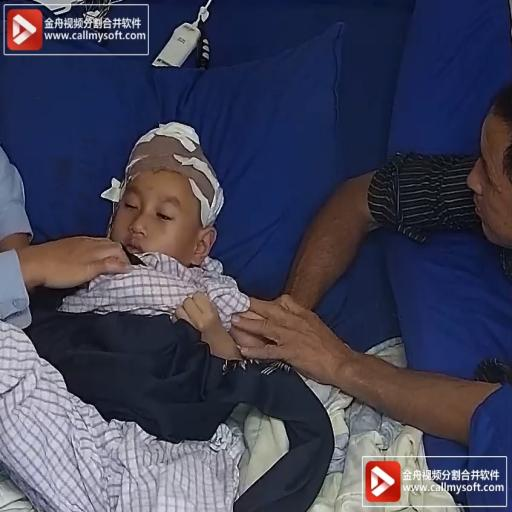Seizure: (106, 158, 221, 257), (112, 165, 227, 264)
